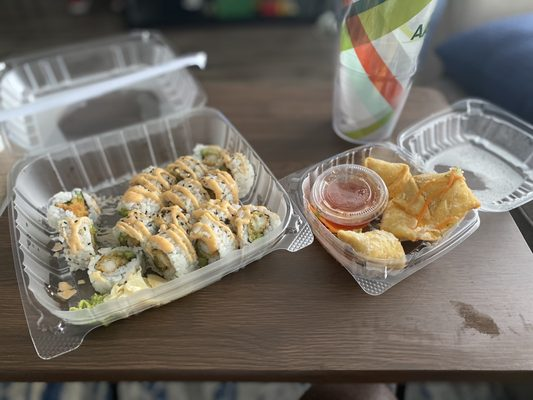pizza: (330, 0, 449, 146)
sushi: (4, 108, 300, 332)
